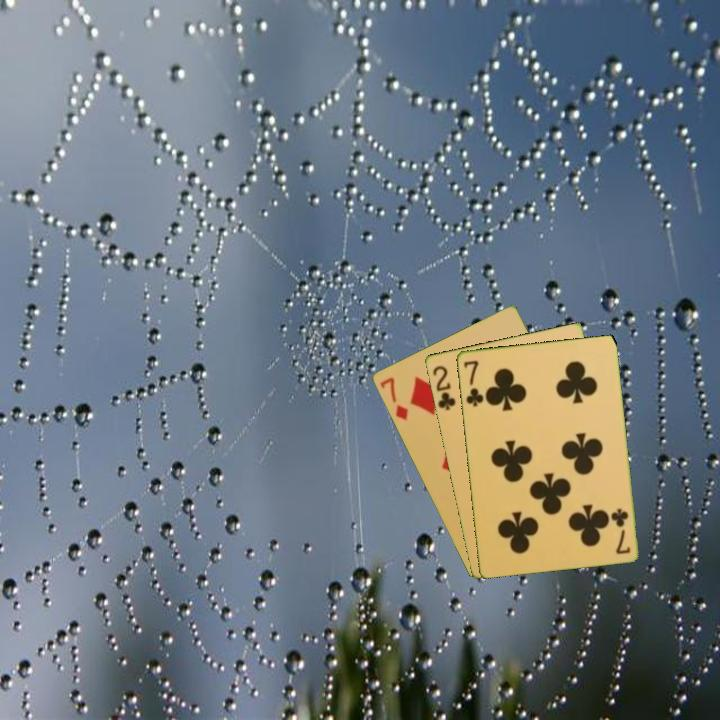2c: (429, 362, 458, 413)
7c: (460, 356, 486, 409), (608, 505, 633, 557)
7d: (376, 373, 411, 423)
